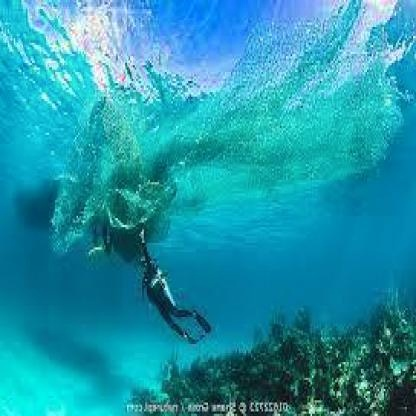net: (64, 43, 402, 225)
